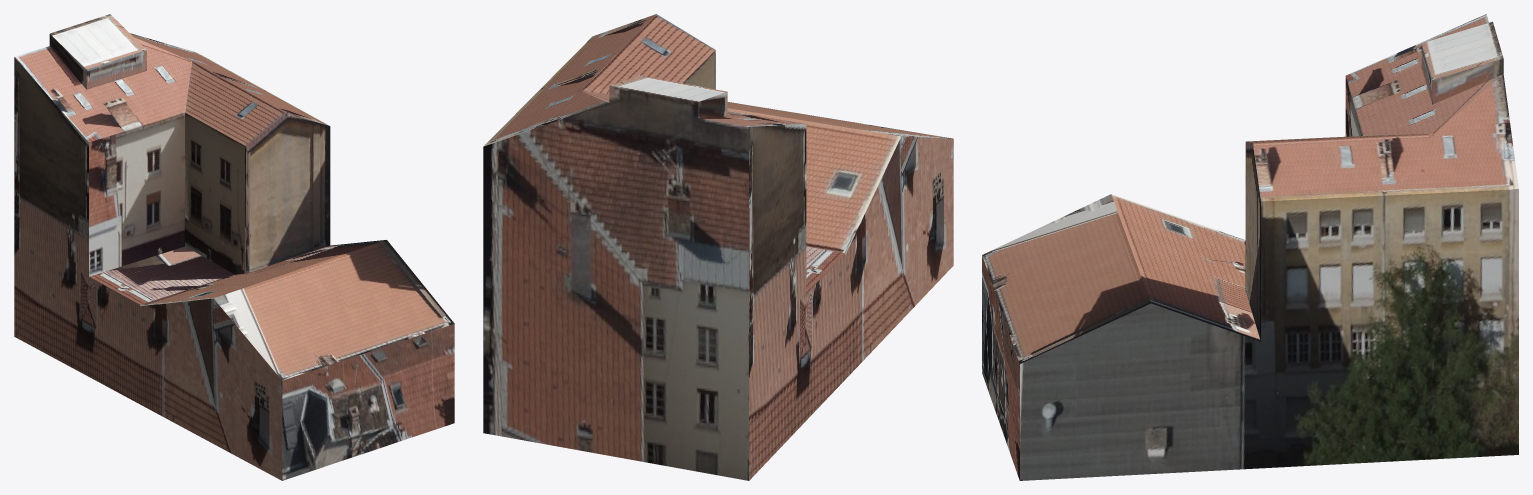
3 views of the same model, side by side, from view 1: azimuth 30°, elevation 25°; view 2: azimuth 150°, elevation 25°; view 3: azimuth 270°, elevation 25° (orthographic). The views are drawn at different scales.
Visible parts, largest first — view 1: Z_UP; view 2: Z_UP; view 3: Z_UP.
Part boxes in pixels (x1=…): Z_UP: x1=14, y1=14, x2=454, y2=480; Z_UP: x1=483, y1=14, x2=953, y2=480; Z_UP: x1=982, y1=14, x2=1518, y2=480.
Bounding box in the file's own units: 19.9 × 22.98 × 32.6.
2 materials, 1 textured.
